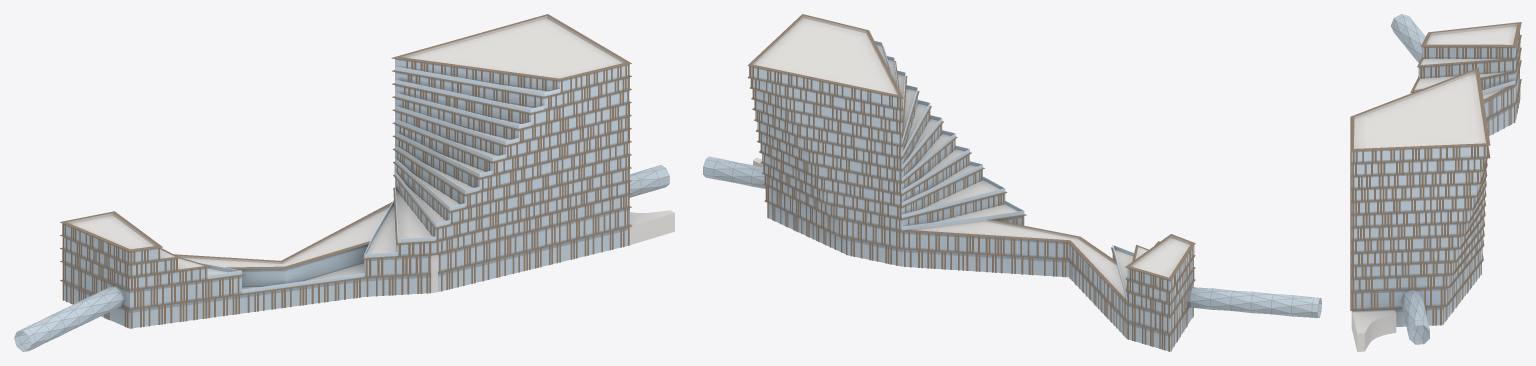
3 views of the same model, side by side, from view 1: azimuth 30°, elevation 25°; view 2: azimuth 150°, elevation 25°; view 3: azimuth 270°, elevation 25° (orthographic). The views are drawn at different scales.
Parts seen in each view (by area): view 1: 70030076201846811; view 2: 70030076201846811; view 3: 70030076201846811.
Boxes of the visible parts, x1=… form: 70030076201846811: x1=14, y1=14, x2=674, y2=351; 70030076201846811: x1=703, y1=14, x2=1321, y2=351; 70030076201846811: x1=1350, y1=14, x2=1521, y2=351.
Bounding box in the file's own units: 178 × 47.59 × 41.34.
Materials: 1 (1 with a texture image).
